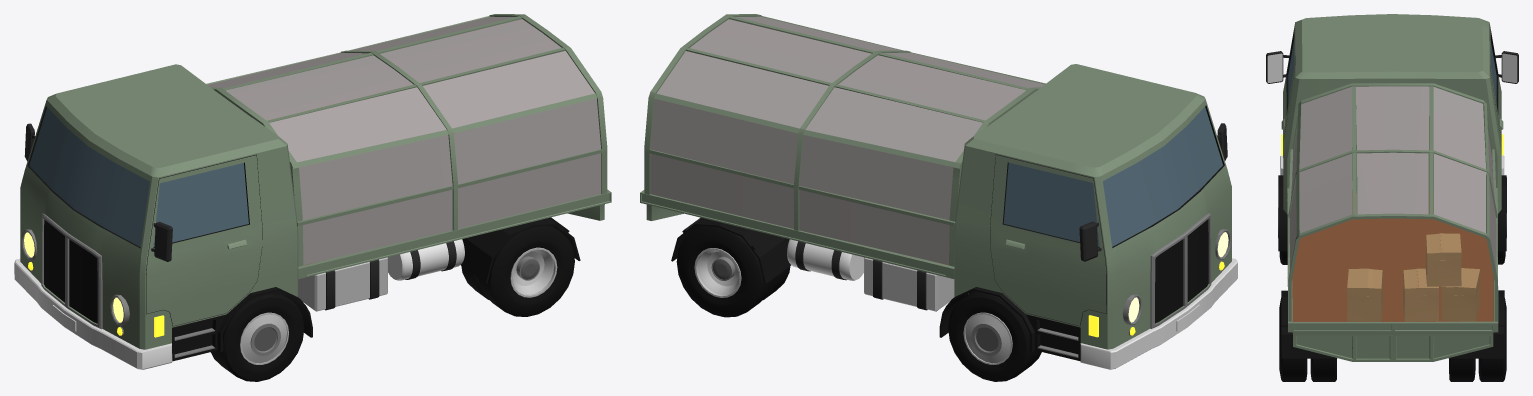
The model's file is car_heavy.glb.
3 views of the same model, side by side, from view 1: azimuth 30°, elevation 25°; view 2: azimuth 150°, elevation 25°; view 3: azimuth 270°, elevation 25° (orthographic). The views are drawn at different scales.
Visible parts, largest first — view 1: Truck2Low_TruckFlak2.001_0, Object; view 2: Truck2Low_TruckFlak2.001_0, Object; view 3: Truck2Low_TruckFlak2.001_0, Object.
Part boxes in pixels (x1,y1,x2,y2): Truck2Low_TruckFlak2.001_0: [14, 14, 611, 369]; Object: [211, 225, 574, 381]; Truck2Low_TruckFlak2.001_0: [640, 14, 1237, 369]; Object: [676, 226, 1041, 381]; Truck2Low_TruckFlak2.001_0: [1266, 14, 1518, 361]; Object: [1278, 208, 1506, 381].
Size of the model in its own units: 5.34 by 2.38 by 2.7.
